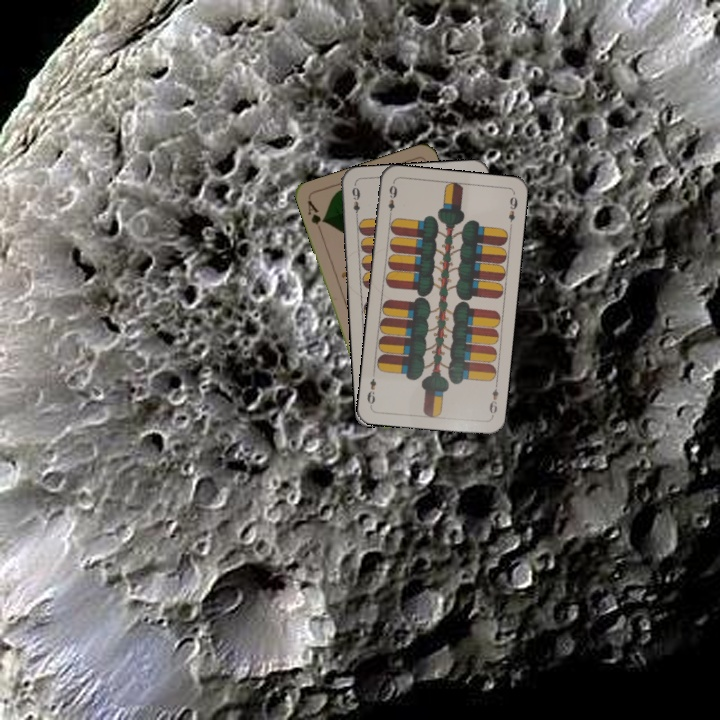E9: (384, 179, 400, 220), (485, 379, 501, 420), (348, 182, 363, 222)
GA: (303, 196, 327, 235)
